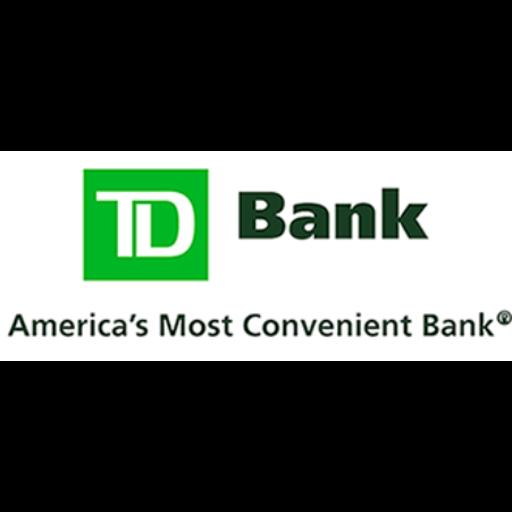TD Bank Group: (0, 151, 512, 361)
